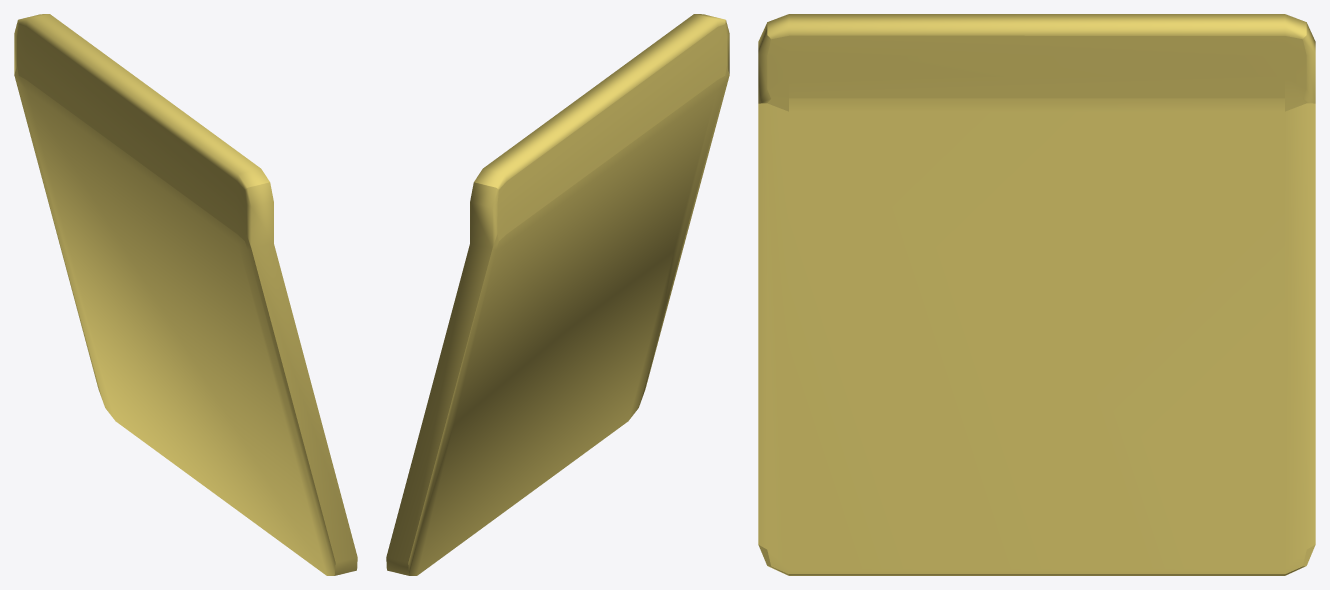
File: StickyNote.fbx
3 views of the same model, side by side, from view 1: azimuth 30°, elevation 25°; view 2: azimuth 150°, elevation 25°; view 3: azimuth 270°, elevation 25° (orthographic). The views are drawn at different scales.
Parts seen in each view (by area): view 1: Cube; view 2: Cube; view 3: Cube.
Boxes of the visible parts, left/top/right/bottom form: Cube: left=14, top=14, right=357, bottom=575; Cube: left=386, top=14, right=729, bottom=575; Cube: left=758, top=14, right=1315, bottom=575.
Size of the model in its own units: 2 by 0.5587 by 1.97.
